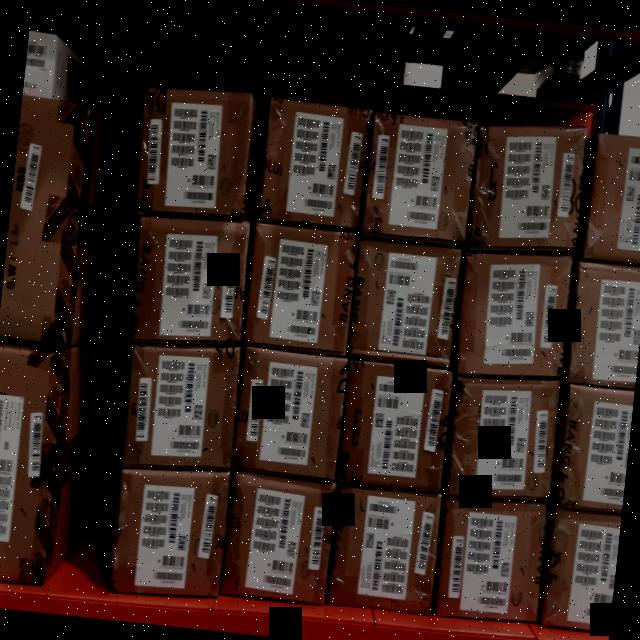box: (241, 222, 359, 354), (135, 84, 250, 218), (362, 113, 477, 245), (232, 348, 348, 478), (110, 468, 226, 596), (120, 344, 241, 466), (257, 98, 372, 226), (133, 214, 249, 340), (222, 472, 336, 600), (434, 496, 550, 620), (472, 124, 584, 252), (339, 359, 452, 485), (349, 239, 462, 364), (328, 486, 440, 610), (457, 254, 572, 374), (447, 377, 556, 501)
